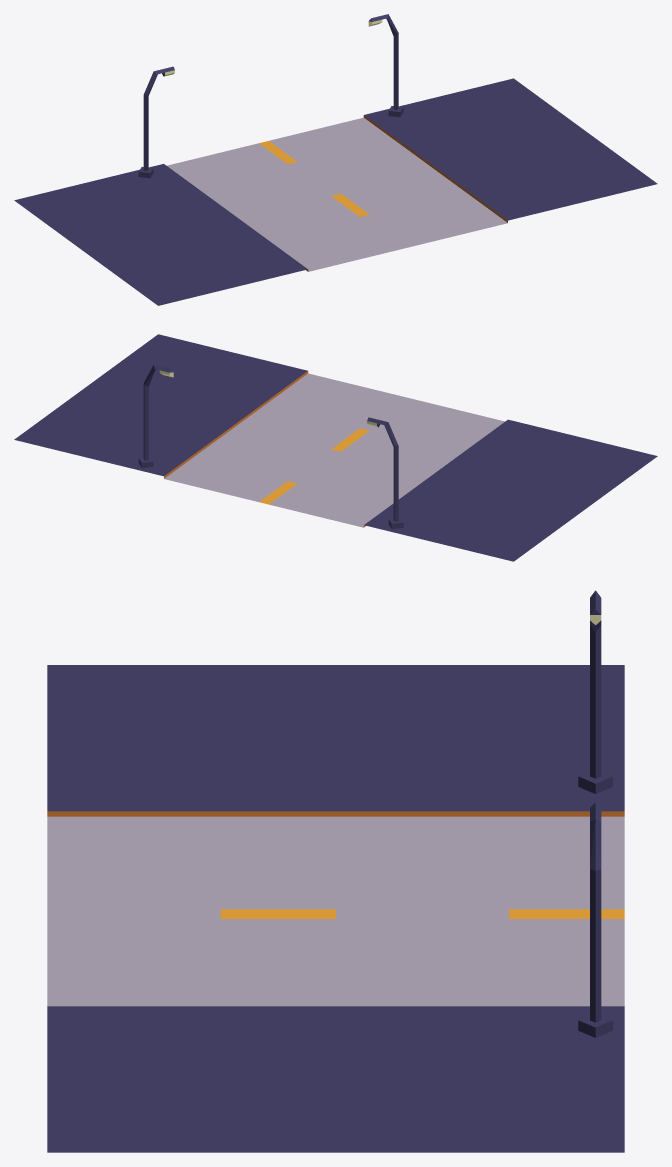
The model's file is road3.obj.
3 views of the same model, one above another, from view 1: azimuth 30°, elevation 25°; view 2: azimuth 150°, elevation 25°; view 3: azimuth 270°, elevation 25° (orthographic). The views are drawn at different scales.
Visible parts, largest first — view 1: ROAD3; view 2: ROAD3; view 3: ROAD3.
Part boxes in pixels (x1,y1,x2,y2): ROAD3: [14, 14, 657, 305]; ROAD3: [14, 334, 657, 561]; ROAD3: [47, 590, 624, 1152].
Bounding box in the file's own units: 20 × 4 × 10.
